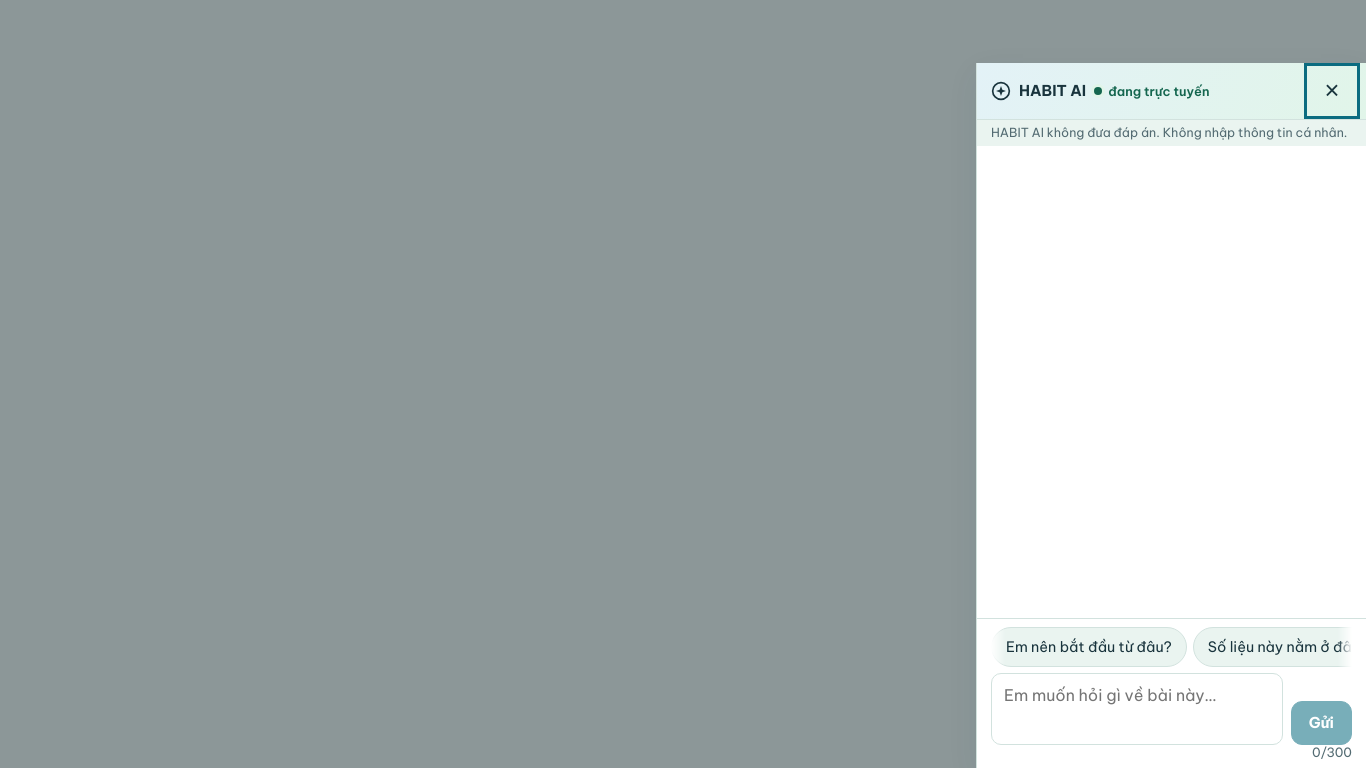
Habit chat › renders a reply as plain text, never as HTML
Click the button "Em nên bắt đầu từ đâu?" at (1089, 648), box 991,628 -> 1187,668
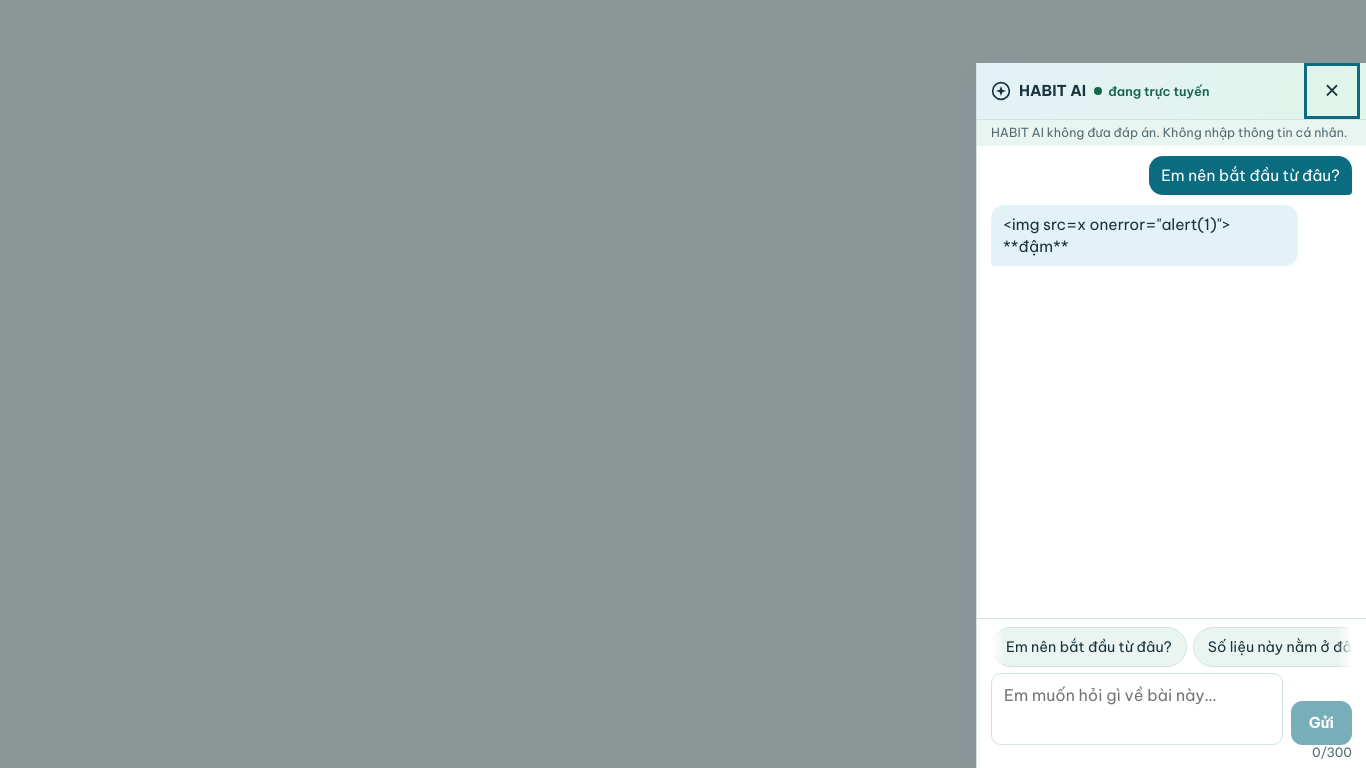
Check: the text "<img src=x onerror=\"alert(1)\"> **đậm**" is shown, box 1003,214 -> 1230,256
